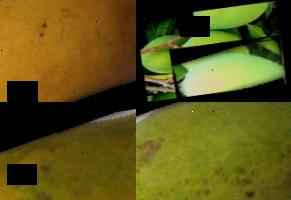PartiallyRipe: (0, 102, 136, 200)
Ripe: (0, 0, 136, 102)
Unripe: (136, 102, 291, 200), (170, 37, 290, 98)
